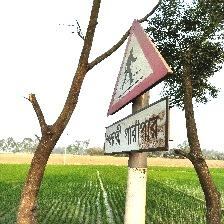Pedestrian-crossing: (103, 19, 173, 156)
